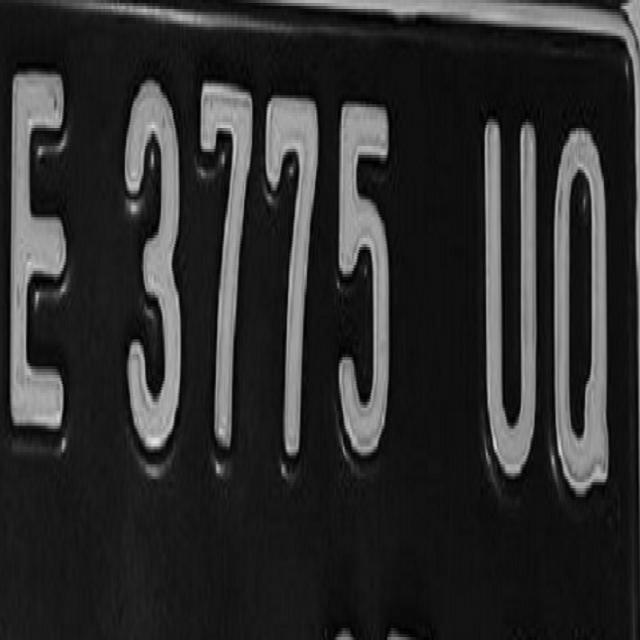3: (118, 70, 194, 490)
5: (330, 85, 404, 476)
7: (258, 86, 330, 468), (198, 75, 256, 478)
E: (3, 40, 75, 446)
Q: (546, 126, 612, 508)
U: (468, 110, 540, 484)
